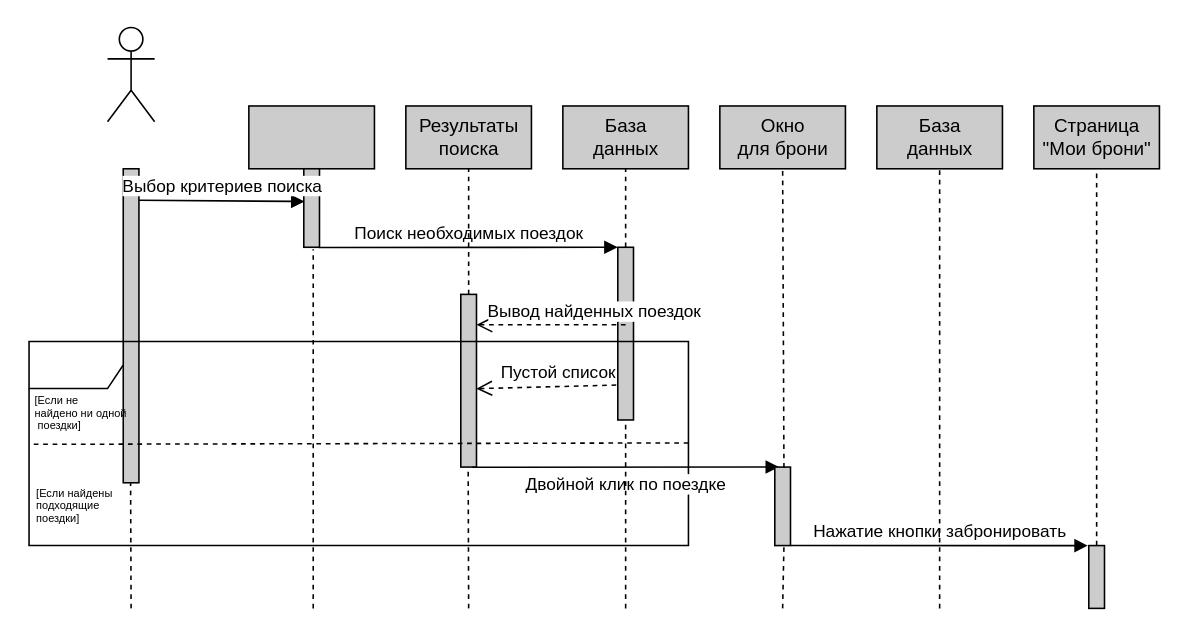
This 1187x637 diagram has some shape labels left out. The shapes that lost their labels are listed below. From the top down, each one's centre as x and y in pixels, then its label:
(130,74): User
(310,136): Форма поиска
(357,443): alt
